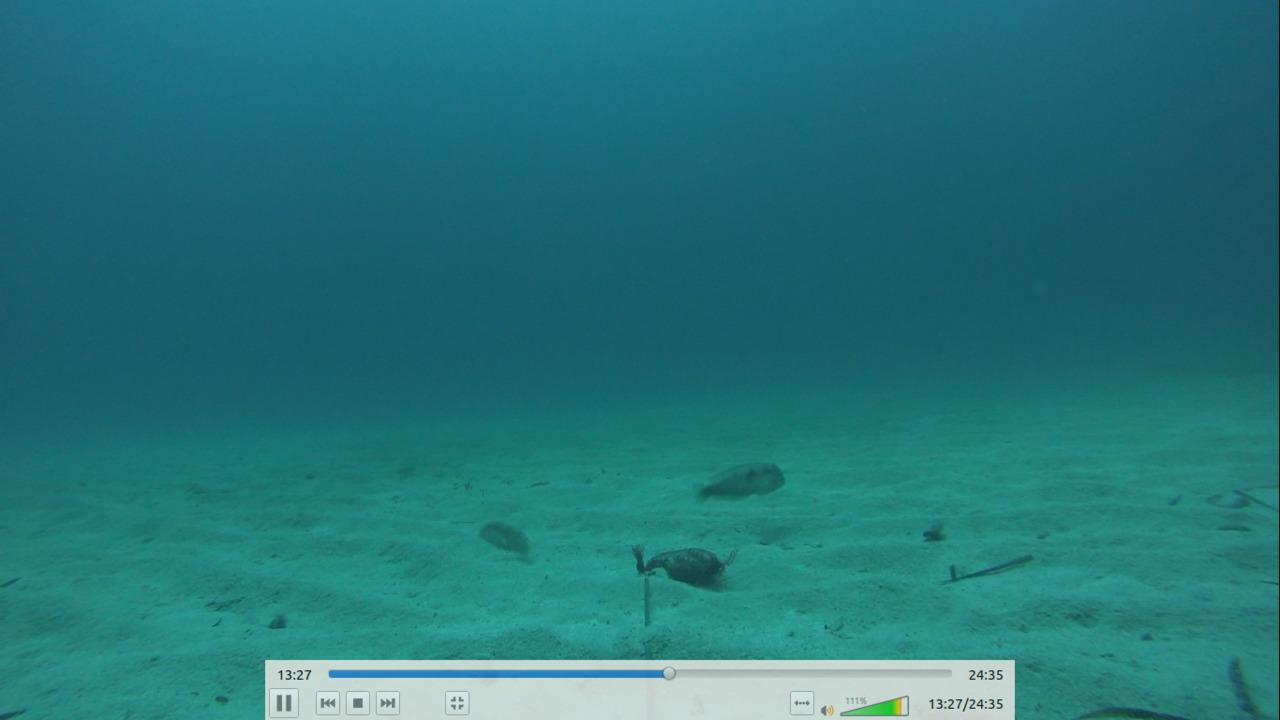raor: (690, 458, 786, 499), (471, 514, 537, 555)
